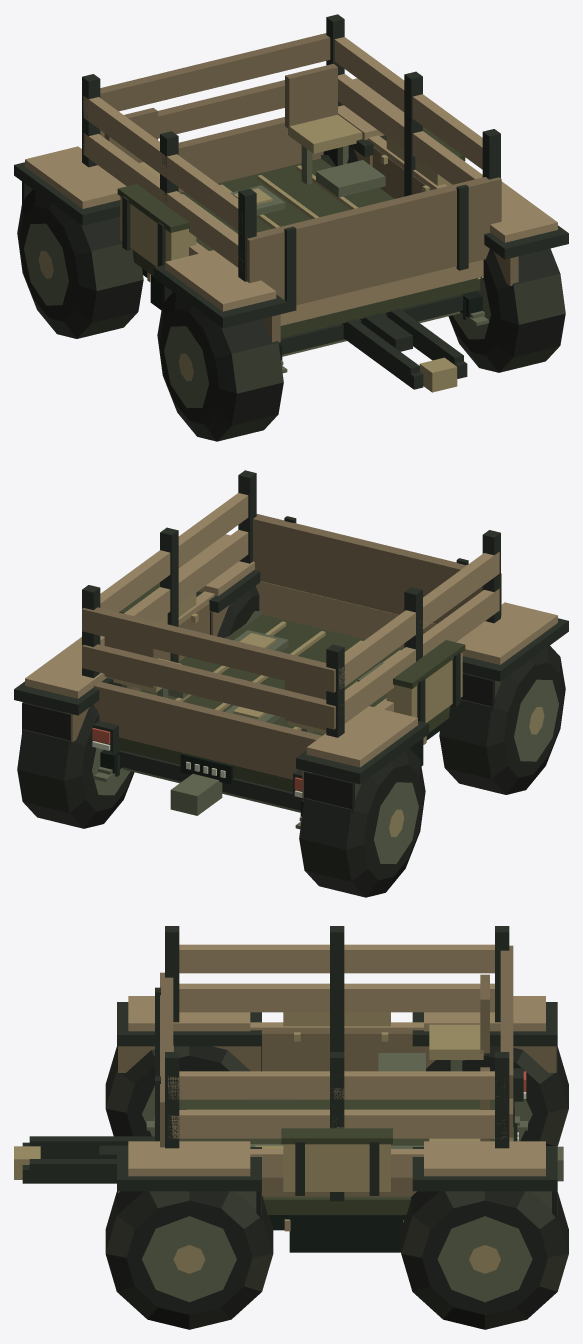
File: military_wagon.glb
The picture shows the model from 3 angles, top to bottom: view 1: azimuth 30°, elevation 25°; view 2: azimuth 150°, elevation 25°; view 3: azimuth 270°, elevation 25°; orthographic projection. The views are drawn at different scales.
Visible parts, largest first — view 1: WagonDetails_cargo, WagonDeck, AllTerrainTire, AllTerrainTire.002, AllTerrainTire.001, DrawbarFrame; view 2: WagonDetails_cargo, WagonDeck, AllTerrainTire.002, AllTerrainTire, AllTerrainTire.003, AllTerrainTire.001; view 3: WagonDetails_cargo, WagonDeck, AllTerrainTire.001, AllTerrainTire.003, AllTerrainTire, AllTerrainTire.002, DrawbarFrame.
Part boxes in pixels (<box>): WagonDetails_cargo: <box>82,14,501,312</box>; WagonDeck: <box>14,64,568,380</box>; AllTerrainTire: <box>157,292,283,441</box>; AllTerrainTire.002: <box>17,189,143,338</box>; AllTerrainTire.001: <box>448,248,565,372</box>; DrawbarFrame: <box>343,314,467,392</box>; WagonDetails_cargo: <box>82,470,501,757</box>; WagonDeck: <box>14,534,568,829</box>; AllTerrainTire.002: <box>299,748,425,897</box>; AllTerrainTire: <box>439,645,565,794</box>; AllTerrainTire.003: <box>17,684,134,828</box>; AllTerrainTire.001: <box>217,586,261,637</box>; WagonDetails_cargo: <box>155,926,513,1201</box>; WagonDeck: <box>29,974,563,1252</box>; AllTerrainTire.001: <box>105,1191,273,1329</box>; AllTerrainTire.003: <box>401,1191,568,1329</box>; AllTerrainTire: <box>105,1046,250,1136</box>; AllTerrainTire.002: <box>426,1046,568,1146</box>; DrawbarFrame: <box>14,1142,116,1183</box>.
Bounding box in the file's own units: 4.48 × 2.93 × 5.82.
2 materials, 2 textured.
